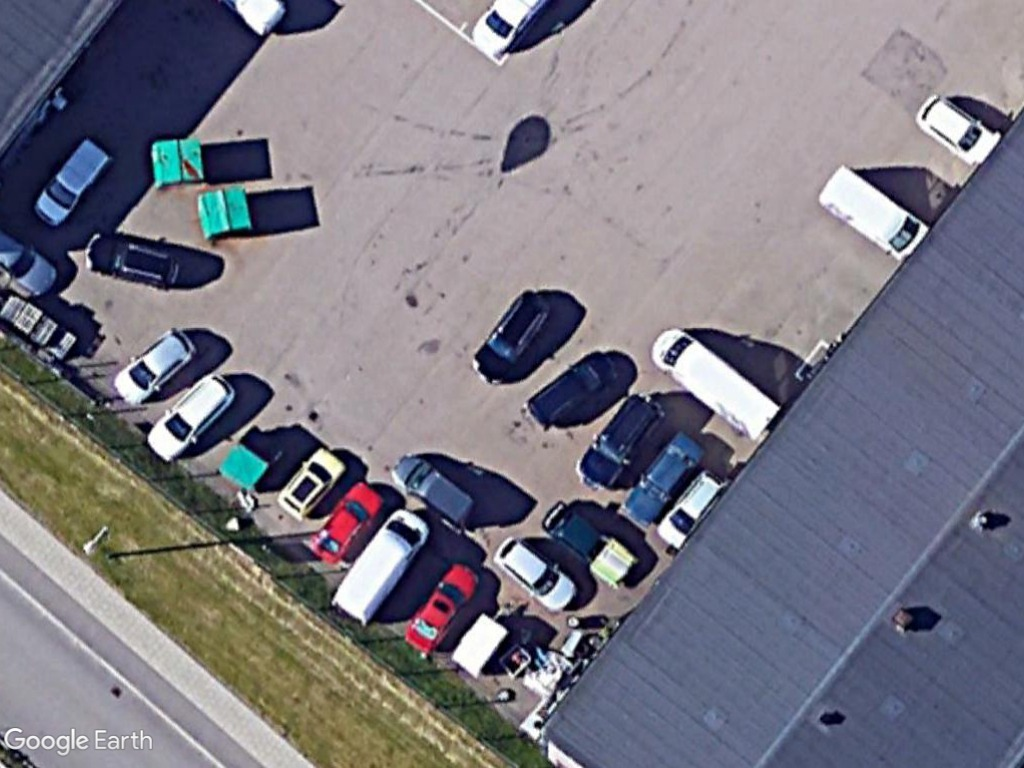car: (141, 370, 241, 468), (465, 288, 562, 387), (577, 389, 667, 488), (620, 433, 711, 526), (109, 321, 200, 409), (400, 559, 485, 653), (389, 449, 481, 531), (653, 463, 737, 547), (305, 477, 389, 561), (493, 534, 581, 612), (277, 443, 352, 521)
van: (649, 322, 786, 441), (329, 511, 434, 628), (31, 135, 114, 231)
